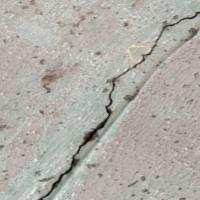crack: (38, 9, 199, 199)
